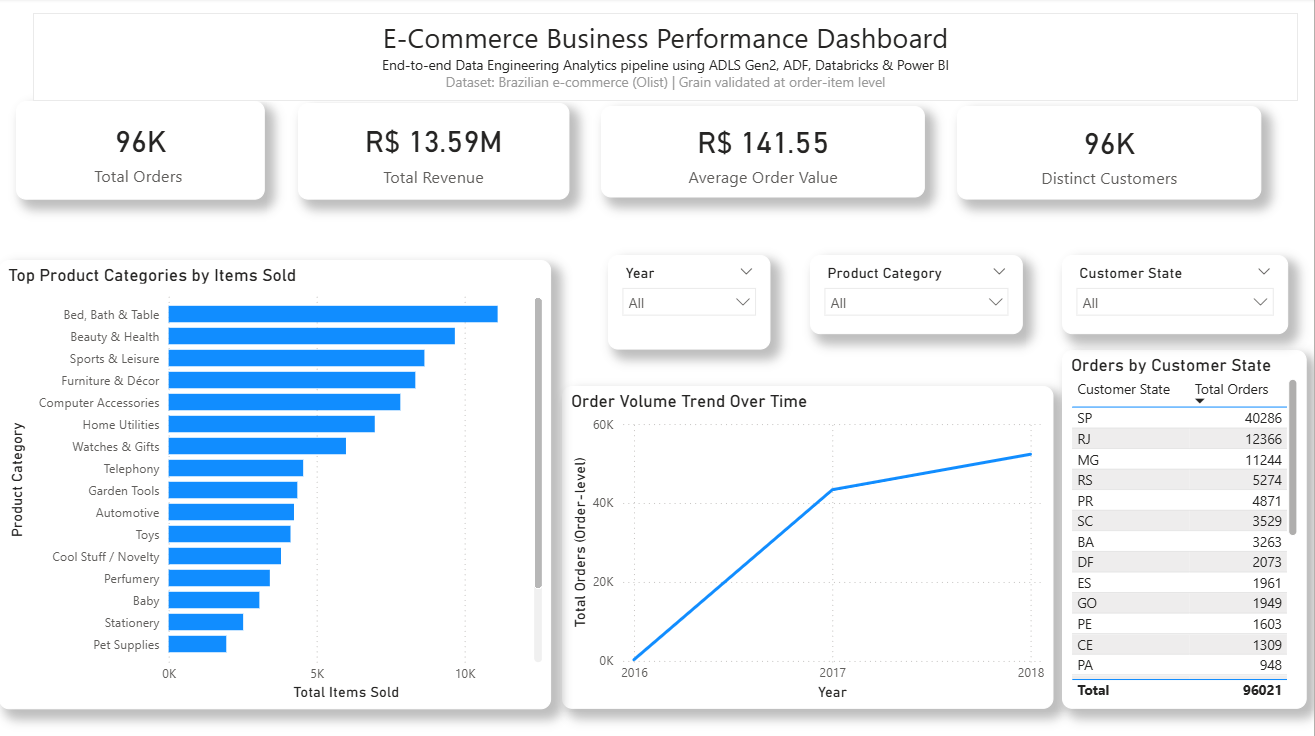

What the dashboard file says about the page in this screenshot:
{"tool":"powerbi","page":{"name":"E-commerce Business Performance Dashboard","canvas":[1280,720],"ordinal":1},"visuals":[{"type":"card","fields":{"Values":["_Measures.Total Orders"]},"box":[16.9,100.3,242.3,95.8],"z":0},{"type":"card","fields":{"Values":["_Measures.Total Revenue"]},"box":[290.7,102.5,263.7,93.5],"z":1000},{"type":"card","fields":{"Values":["_Measures.Average Order Value"]},"box":[585.2,104.8,315.5,89],"z":2000},{"type":"card","fields":{"Values":["_Measures.Distinct Customers"]},"box":[931.8,104.8,296.3,91.3],"z":3000},{"type":"textbox","box":[32.7,14.6,1230.4,85.6],"z":4000},{"type":"lineChart","title":"Order Volume Trend Over Time","fields":{"Category":["dim_date.Year"],"Y":["_Measures.Total Orders (Order-level)"]},"box":[547.6,377.5,477.7,314.4],"z":5000},{"type":"barChart","title":"Top Product Categories by Items Sold","fields":{"Category":["dim_product_category.Product Category"],"Y":["_Measures.Total Items Sold"]},"box":[0,254.6,537.5,437.2],"z":6000},{"type":"tableEx","title":"Orders by Customer State","fields":{"Values":["dim_customers.Customer State","_Measures.Total Orders (Order-level)"]},"box":[1034.4,342.5,237.7,349.3],"z":7000},{"type":"slicer","fields":{"Values":["dim_date.Year"]},"box":[592.7,250.1,157.7,92.4],"z":8000},{"type":"slicer","fields":{"Values":["dim_product_category.Product Category"]},"box":[788.7,250.1,207.3,76.6],"z":9000},{"type":"slicer","fields":{"Values":["dim_customers.Customer State"]},"box":[1034.4,250.1,219.7,76.6],"z":10000}]}

Visuals, with their boxes in screenshot pixels (x1, y1, x2, y2), scaled from the page's 1280x720 canvas onto the 1315x736 screenshot:
card - _Measures.Total Orders: <box>17,103,266,200</box>
card - _Measures.Total Revenue: <box>299,105,570,200</box>
card - _Measures.Average Order Value: <box>601,107,925,198</box>
card - _Measures.Distinct Customers: <box>957,107,1262,200</box>
textbox: <box>34,15,1298,102</box>
"Order Volume Trend Over Time" lineChart: <box>563,386,1053,707</box>
"Top Product Categories by Items Sold" barChart: <box>0,260,552,707</box>
"Orders by Customer State" tableEx: <box>1063,350,1307,707</box>
slicer - dim_date.Year: <box>609,256,771,350</box>
slicer - dim_product_category.Product Category: <box>810,256,1023,334</box>
slicer - dim_customers.Customer State: <box>1063,256,1288,334</box>
